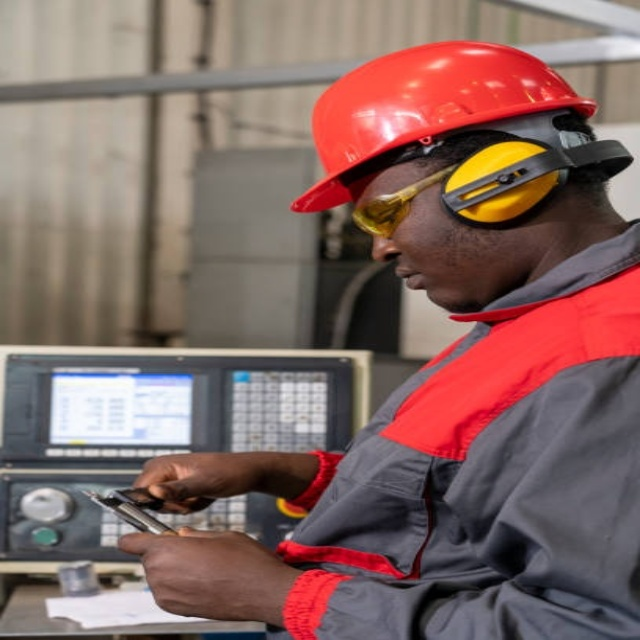Gafas: (347, 158, 469, 237)
Sin_guantes: (115, 528, 289, 622), (129, 448, 320, 508)
Sin_mascara: (387, 257, 474, 311)
